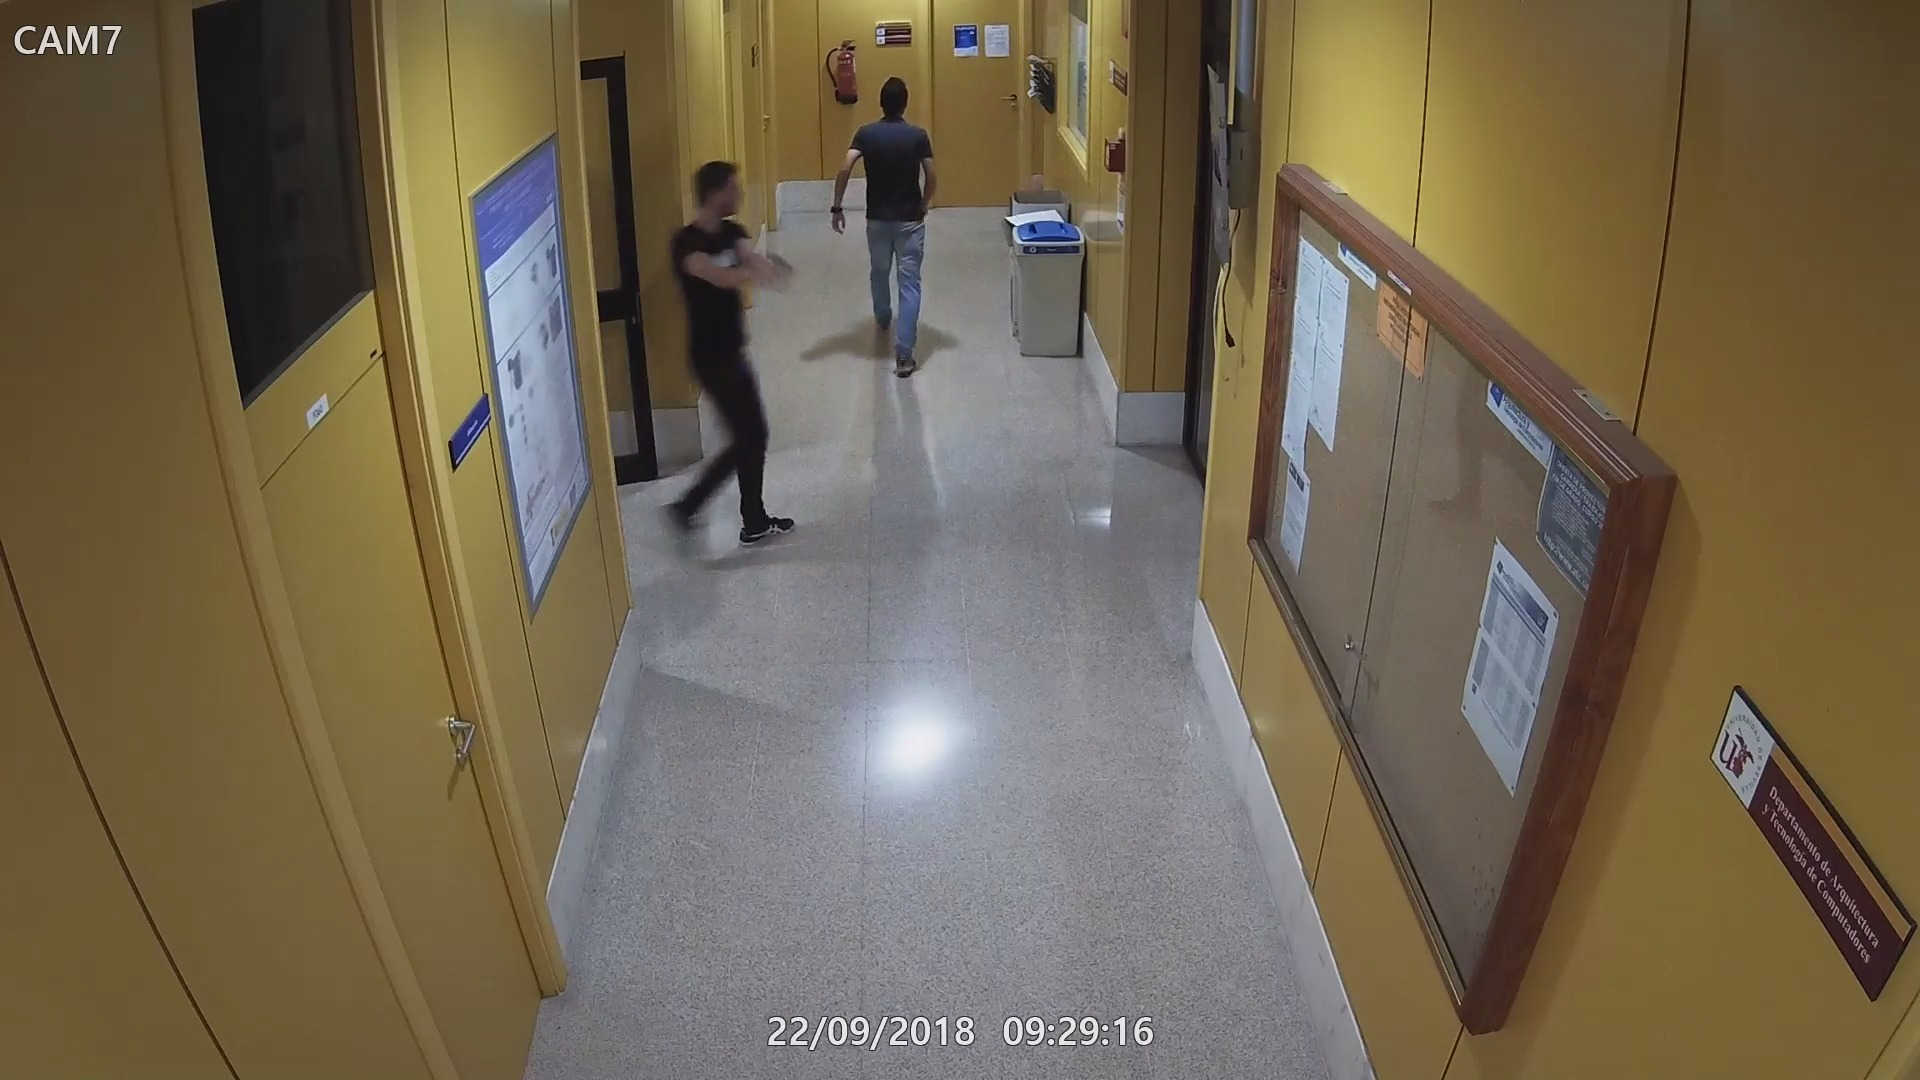Handgun: (749, 251, 798, 298)
